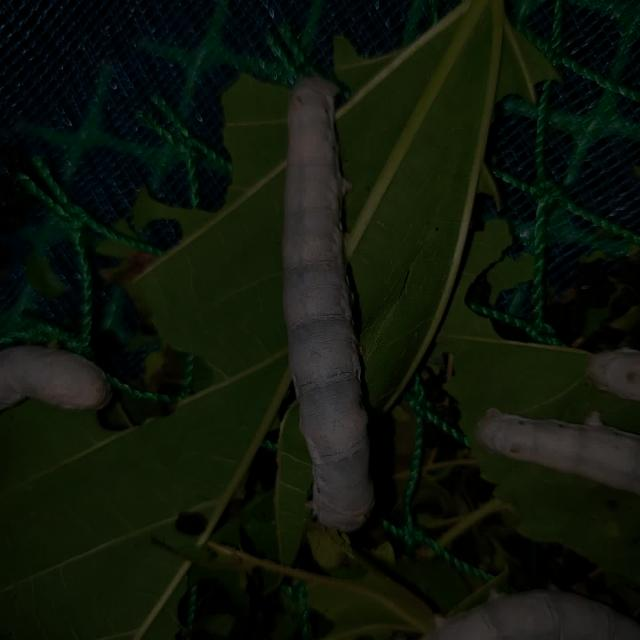Healthy: (251, 46, 438, 534)
